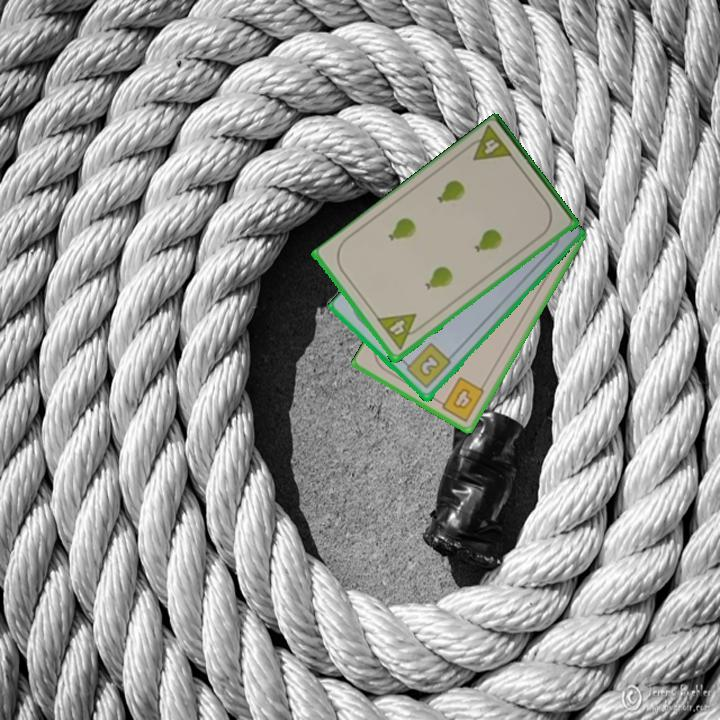2b: (400, 340, 454, 391)
4b: (433, 373, 487, 425)
4p: (461, 123, 516, 164), (374, 310, 426, 353)
